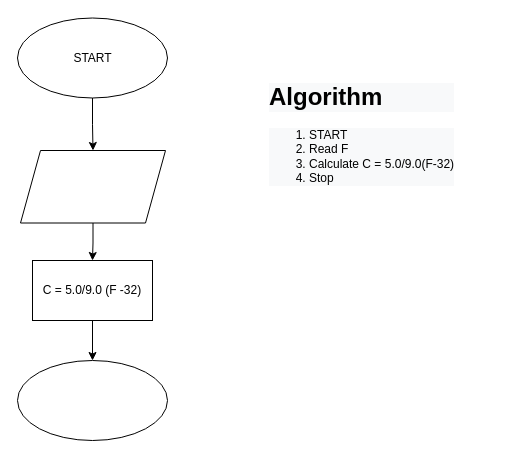
Image size: 515x458. Some labels were removed from this diagram. Here are the shapes that lost their labels. From the top down, the centre of each, then its label:
At point 93,186: "Read F".
At point 92,400: "STOP".
